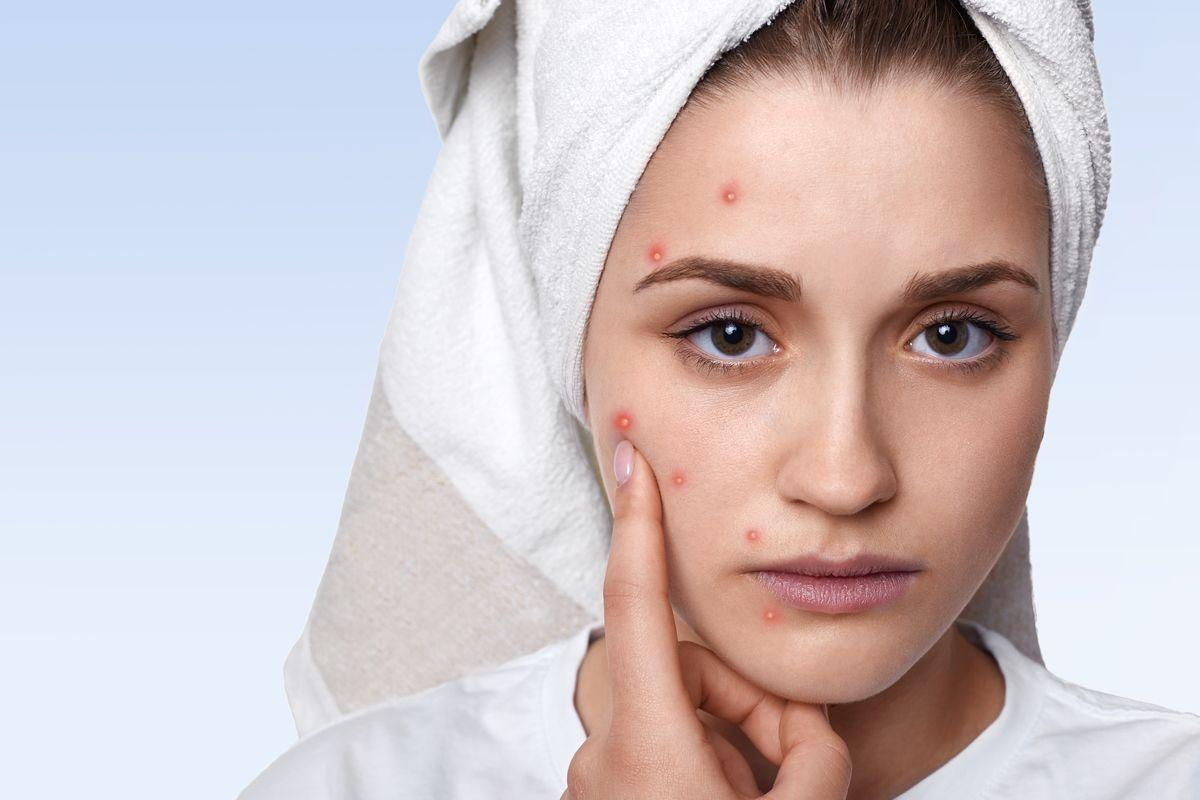Oily-Skin: (788, 298, 937, 545)
